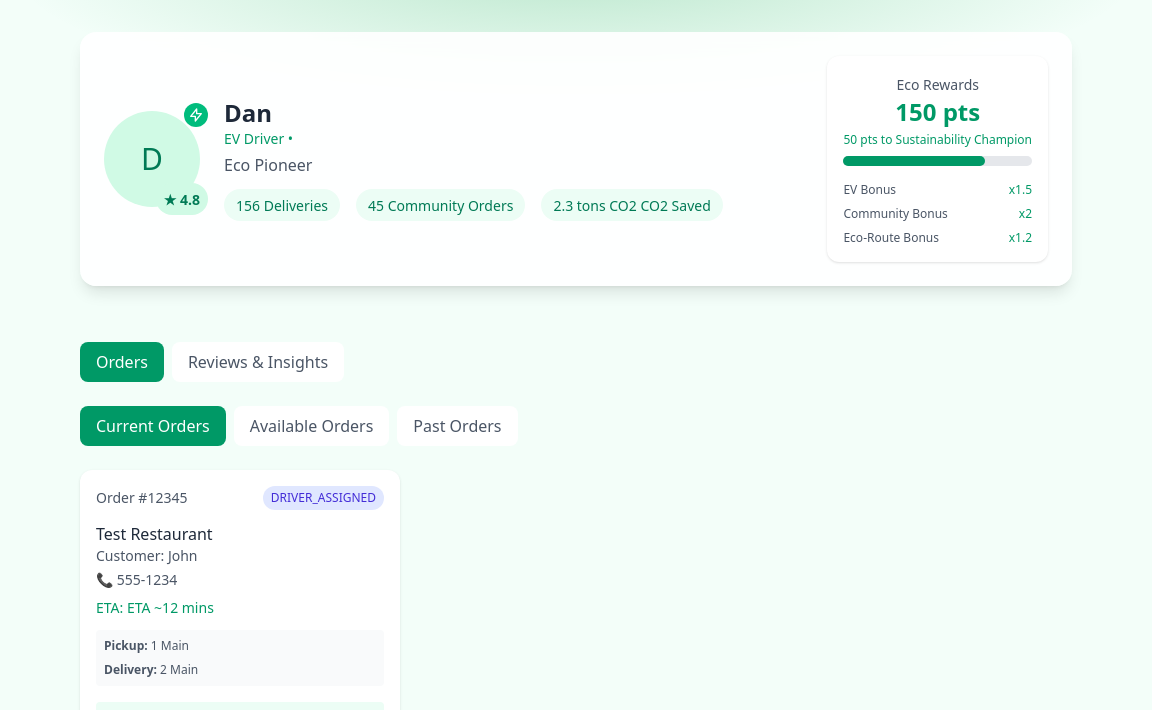
Test: Drivers › displays error message when geolocation permission is denied
Click the button "Current Orders".
click(153, 426)  # box 80,406 -> 226,446
(page scrolled)
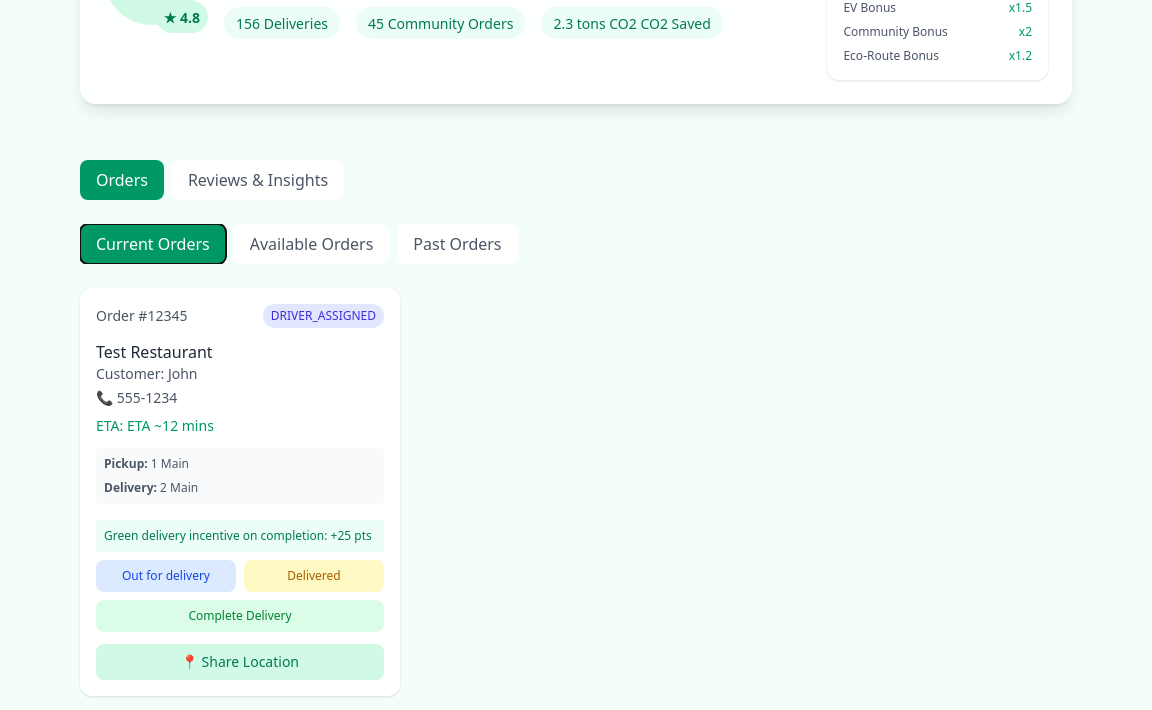
Click the button "📍 Share Location".
click(240, 662)  # box 96,644 -> 384,680
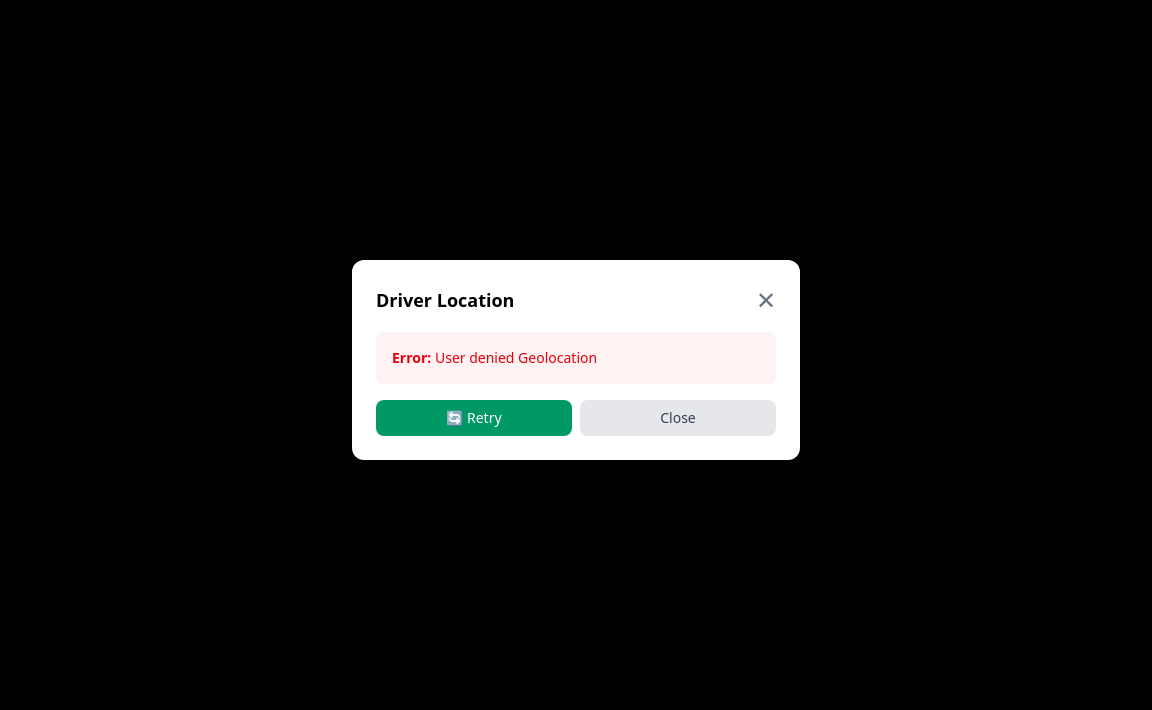
Now the text "Error: User denied Geolocation" is shown, box 392,348 -> 597,367
